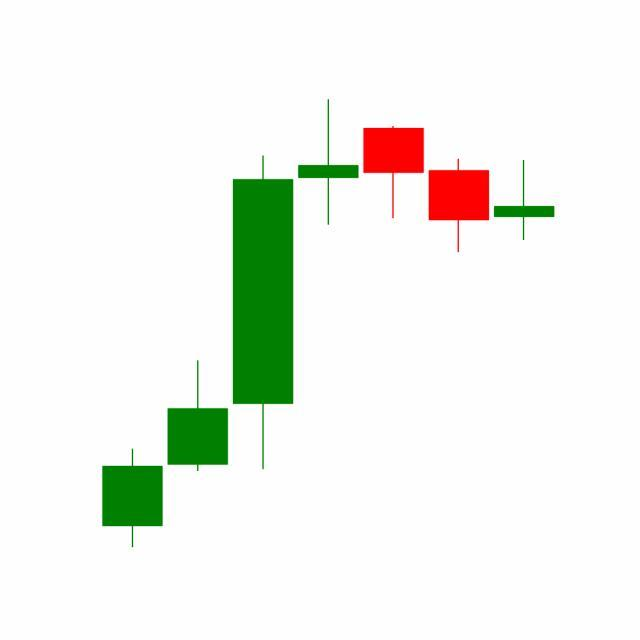Hikkake Pattern: (165, 99, 492, 476)
